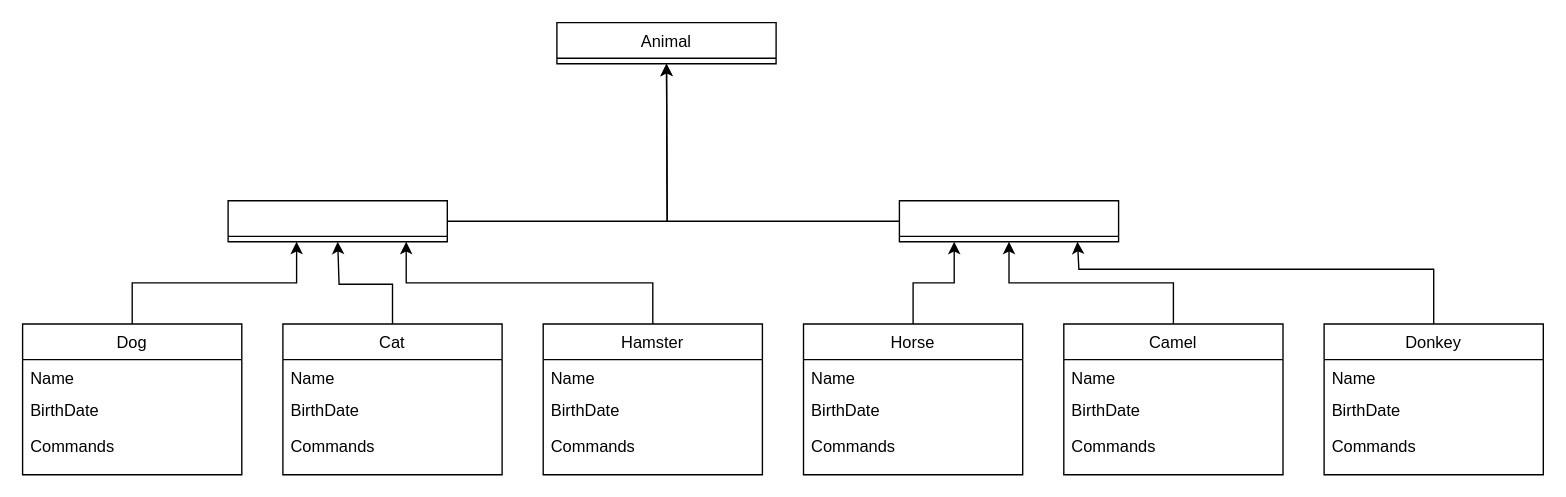
Some shapes in this 1566 by 497 pixel diagram are drawn without their labels. The centre of each missing label's shape, as x and y in pixels:
PackAnimals: point 1008,220
Pets: point 337,220
